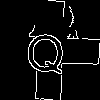Q: (25, 25, 66, 75)
